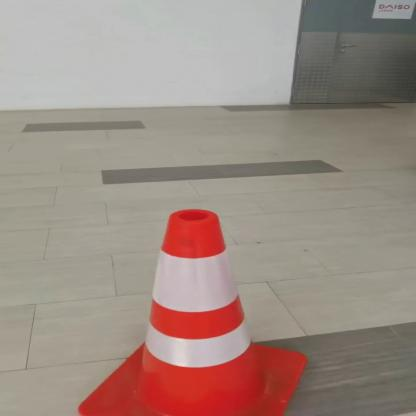cone: (70, 204, 308, 416)
